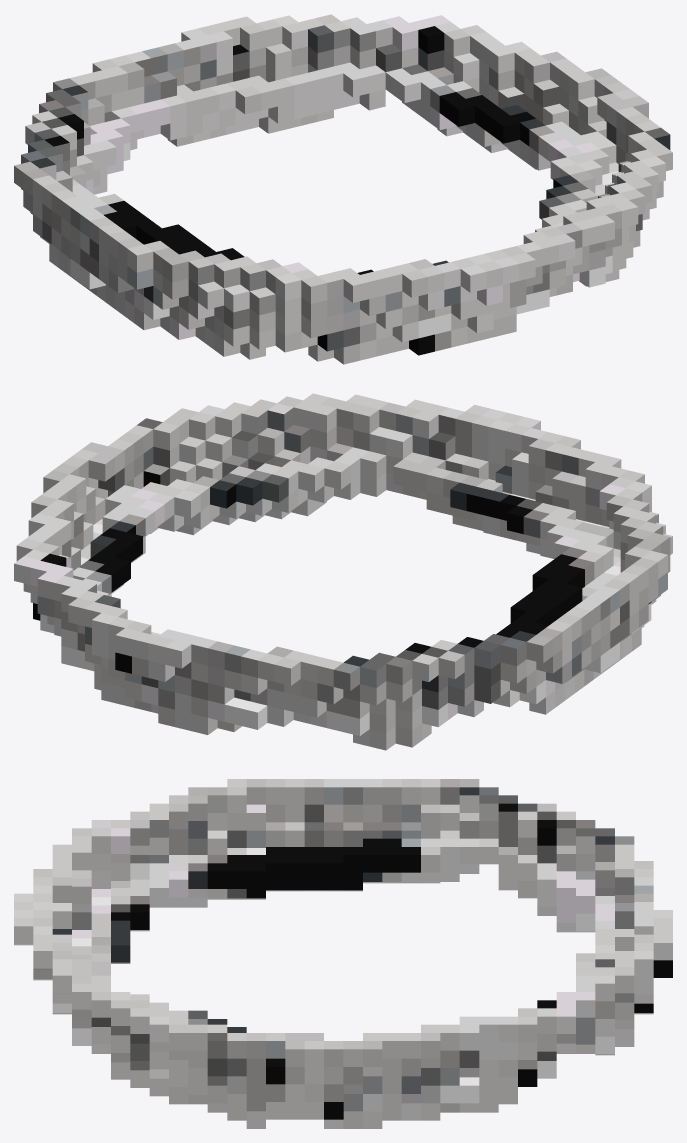
Rendered from rotor_spinner_mid.obj.
3 views of the same model, one above another, from view 1: azimuth 30°, elevation 25°; view 2: azimuth 150°, elevation 25°; view 3: azimuth 270°, elevation 25° (orthographic). The views are drawn at different scales.
Parts seen in each view (by area): view 1: rotor_spinner_mid; view 2: rotor_spinner_mid; view 3: rotor_spinner_mid.
Part boxes in pixels (x1=…): rotor_spinner_mid: x1=14, y1=14, x2=672, y2=364; rotor_spinner_mid: x1=14, y1=393, x2=672, y2=750; rotor_spinner_mid: x1=14, y1=779, x2=672, y2=1128.
Bounding box in the file's own units: 4.12 × 0.625 × 4.25.
1 material, 1 textured.
